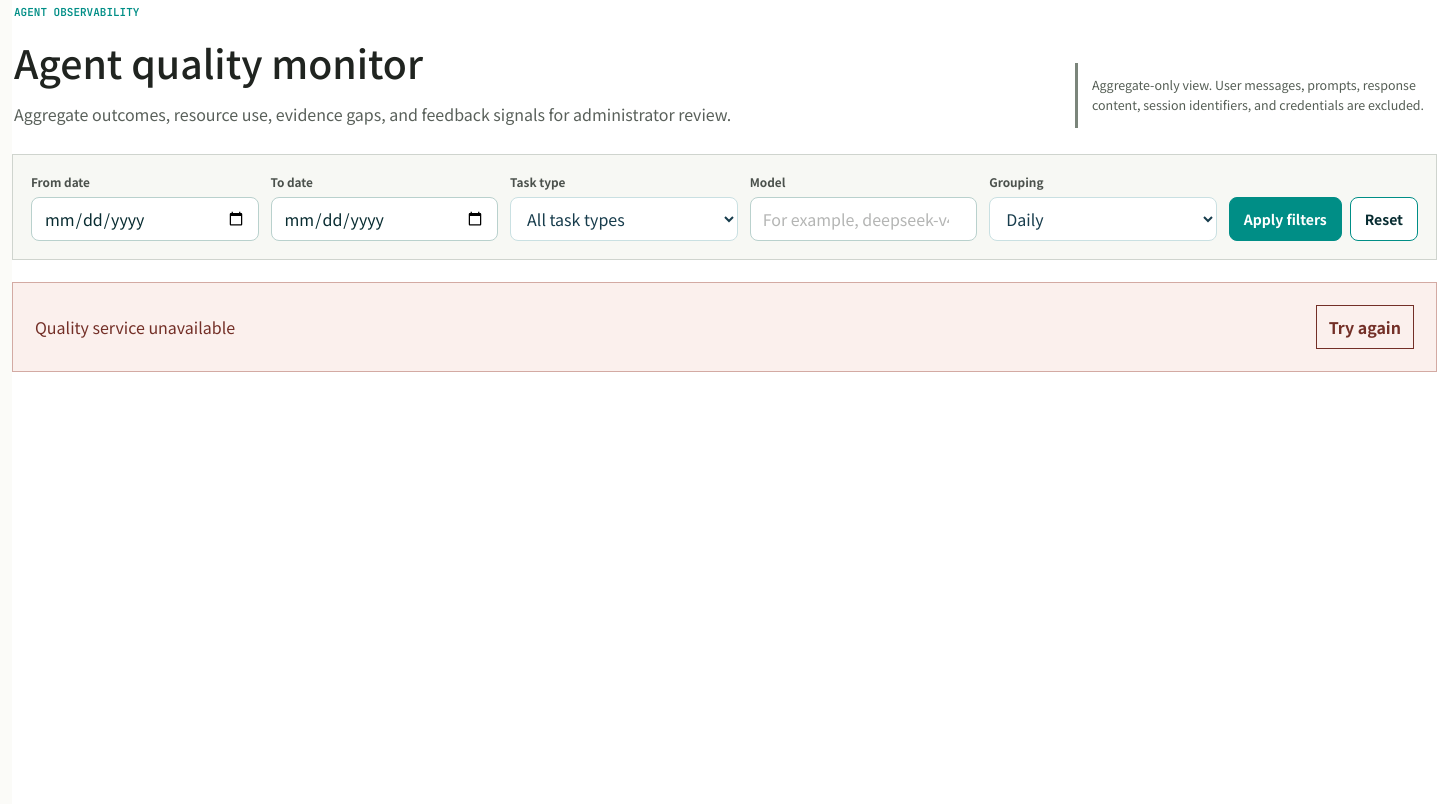
AdminAgentQualityView › shows a retryable error when the aggregate endpoint cannot be read
Expected: the message "Quality service unavailable Try again" is shown, [12, 282, 1437, 372]
Click the button "Try again" at (1365, 328), box [1316, 306, 1414, 350]
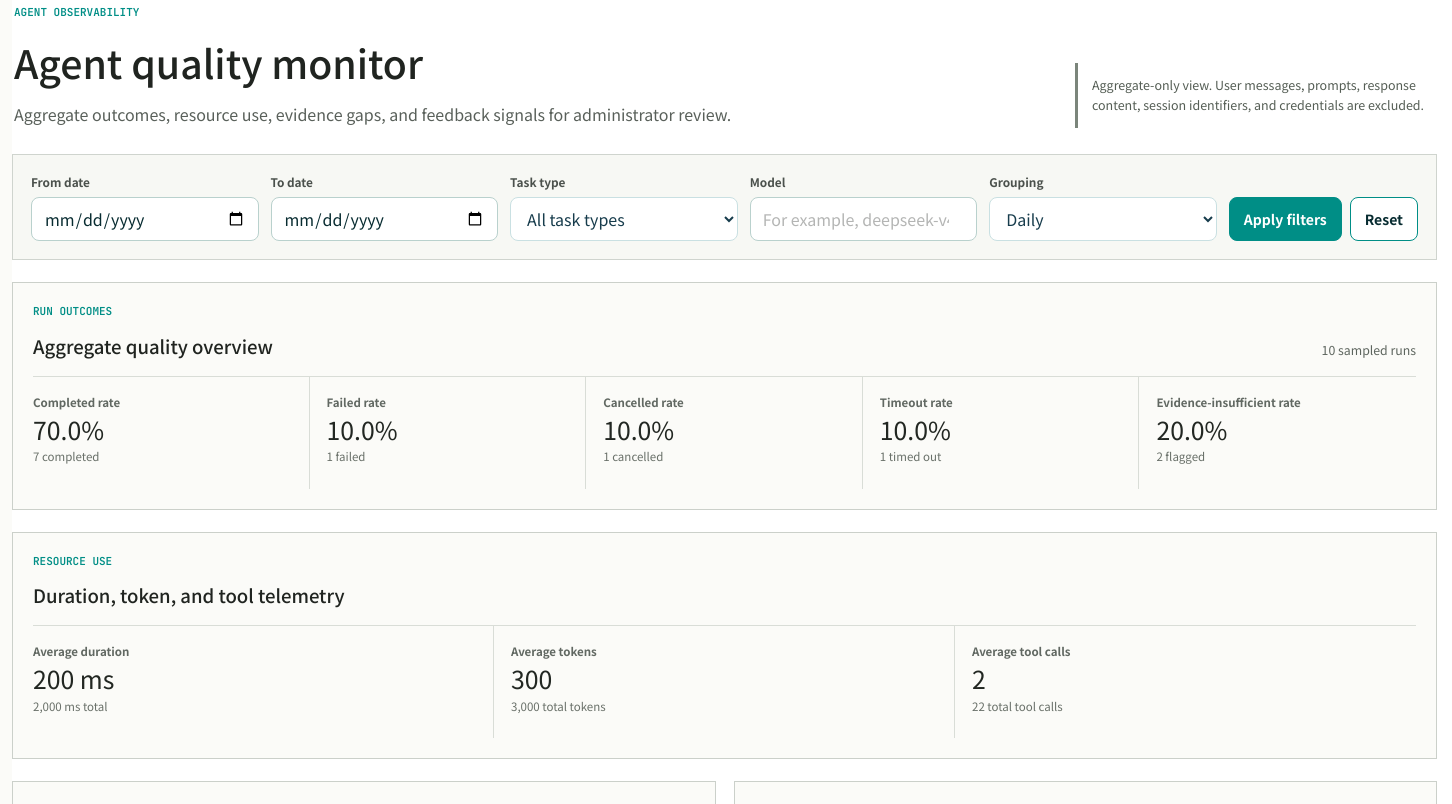
Now the element that starts with "RUN OUTCOMES" is shown, box [12, 282, 1437, 510]
